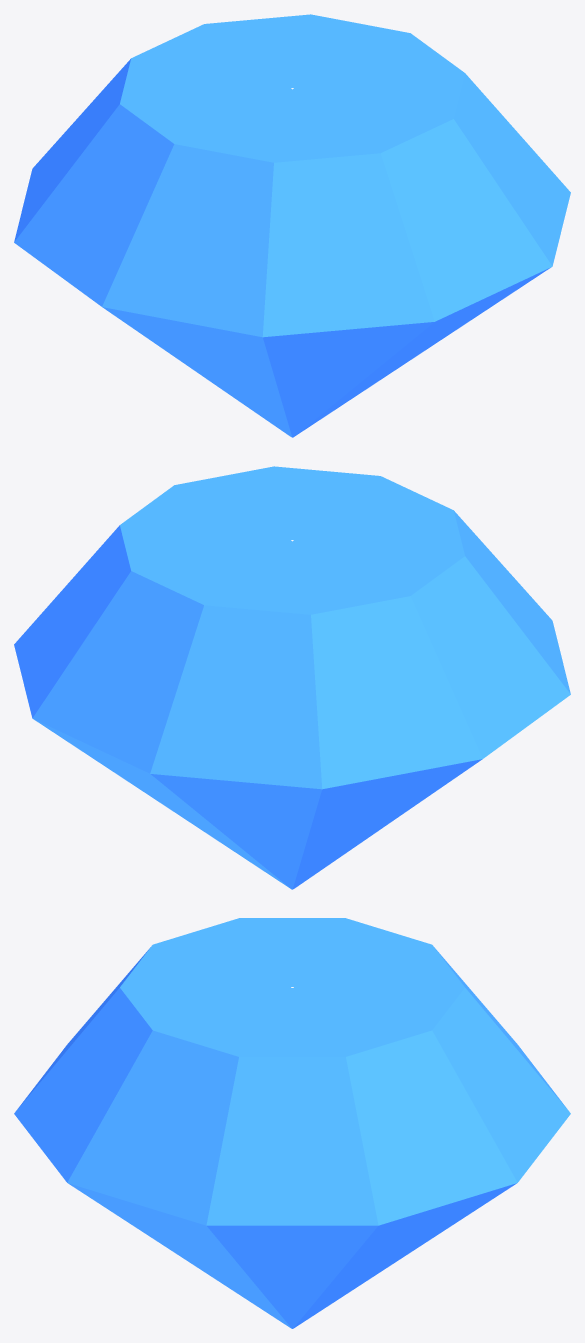
File: cut_gem.glb
3 renders of one model, top to bottom at view 1: azimuth 30°, elevation 25°; view 2: azimuth 150°, elevation 25°; view 3: azimuth 270°, elevation 25°, orthographic. The views are drawn at different scales.
Visible parts, largest first — view 1: cut_gem; view 2: cut_gem; view 3: cut_gem.
Boxes of the visible parts, bbox=[...] form: cut_gem: bbox=[14, 14, 570, 437]; cut_gem: bbox=[14, 466, 570, 889]; cut_gem: bbox=[14, 918, 570, 1328].
Bounding box in the file's own units: 0.038 × 0.027 × 0.04.
